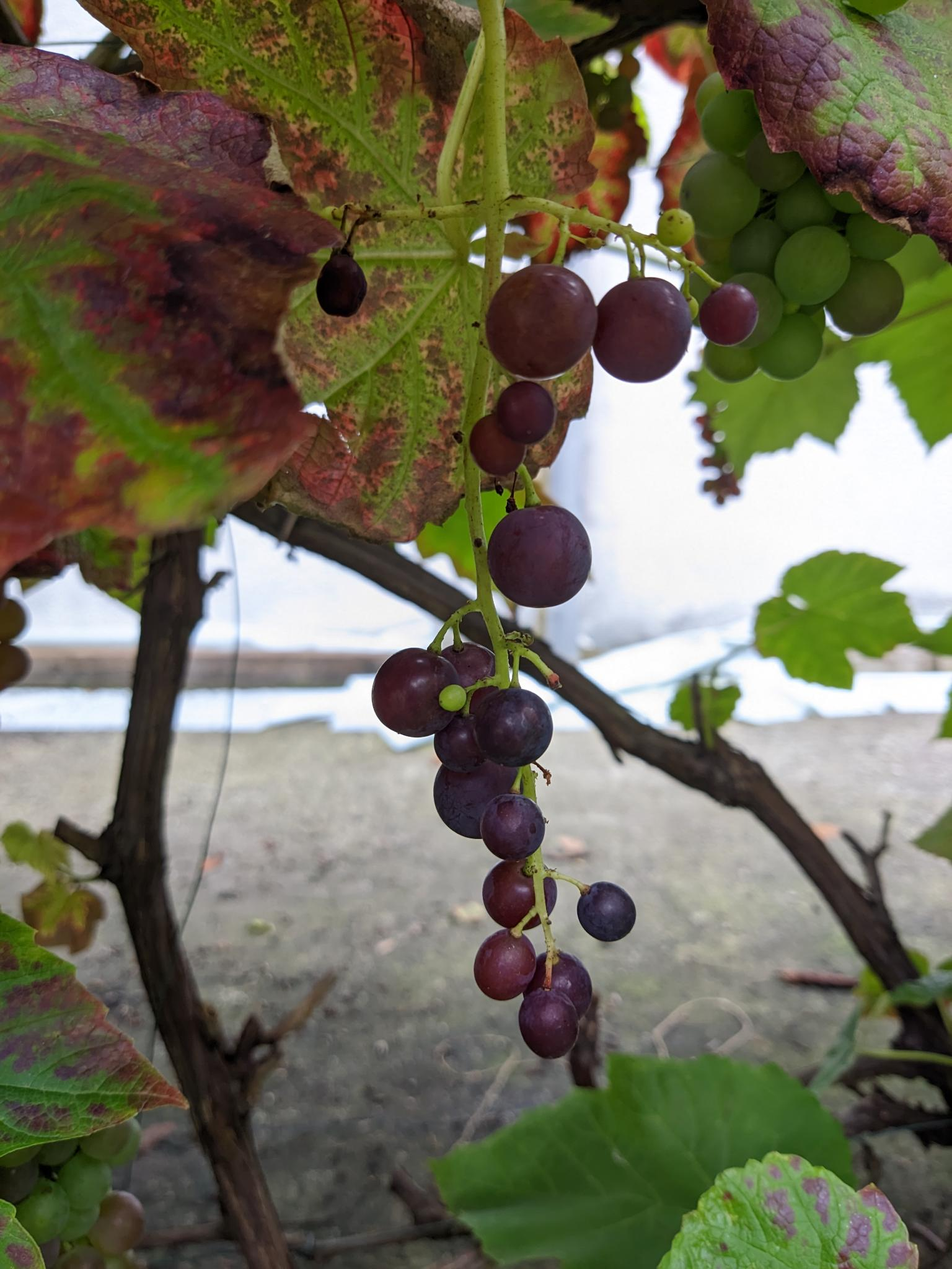Grape Ripe: (374, 491, 591, 1058), (490, 266, 598, 377), (602, 279, 690, 379), (469, 381, 552, 481)
Grape Unripe: (658, 64, 910, 384)
